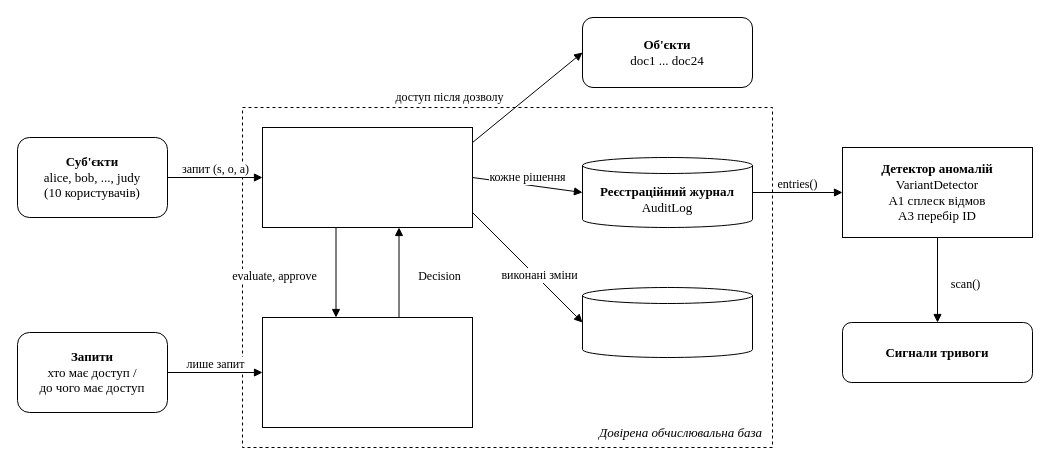
Some shapes in this 1050 by 465 pixel diagram are drawn without their labels. Here are the shapes that lost their labels. From the top down, the centre of each, then its label:
point (367, 177): Диспетчер доступу VariantMonitor check / enforce / perform / approve
point (667, 322): Операційний журнал OperationLog
point (367, 372): Політика CapabilityPolicy мандати суб'єктів, підтвердження, evaluate
